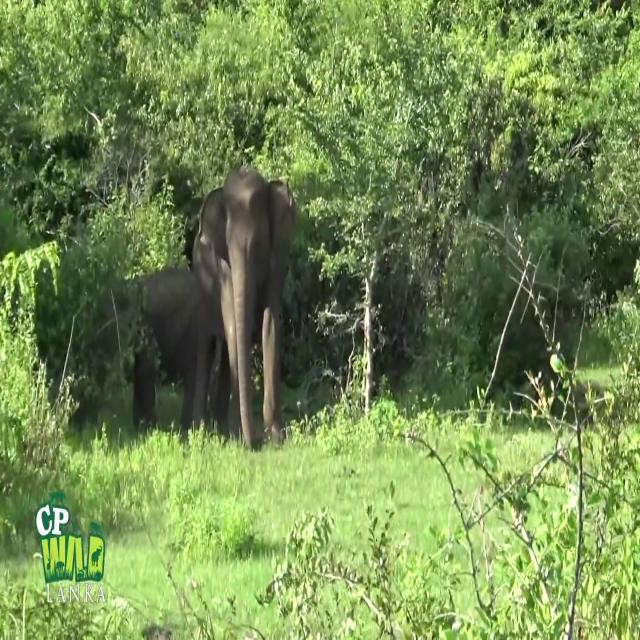Elephant: (192, 165, 296, 450)
